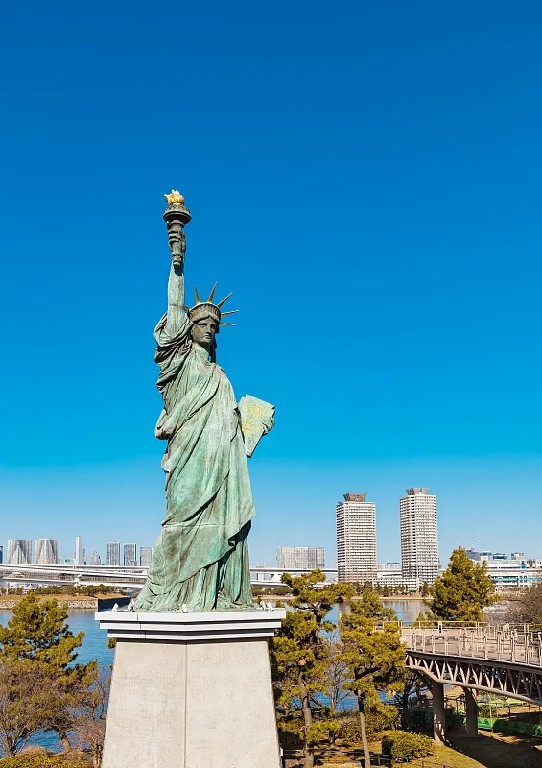SL: (94, 188, 285, 768)
